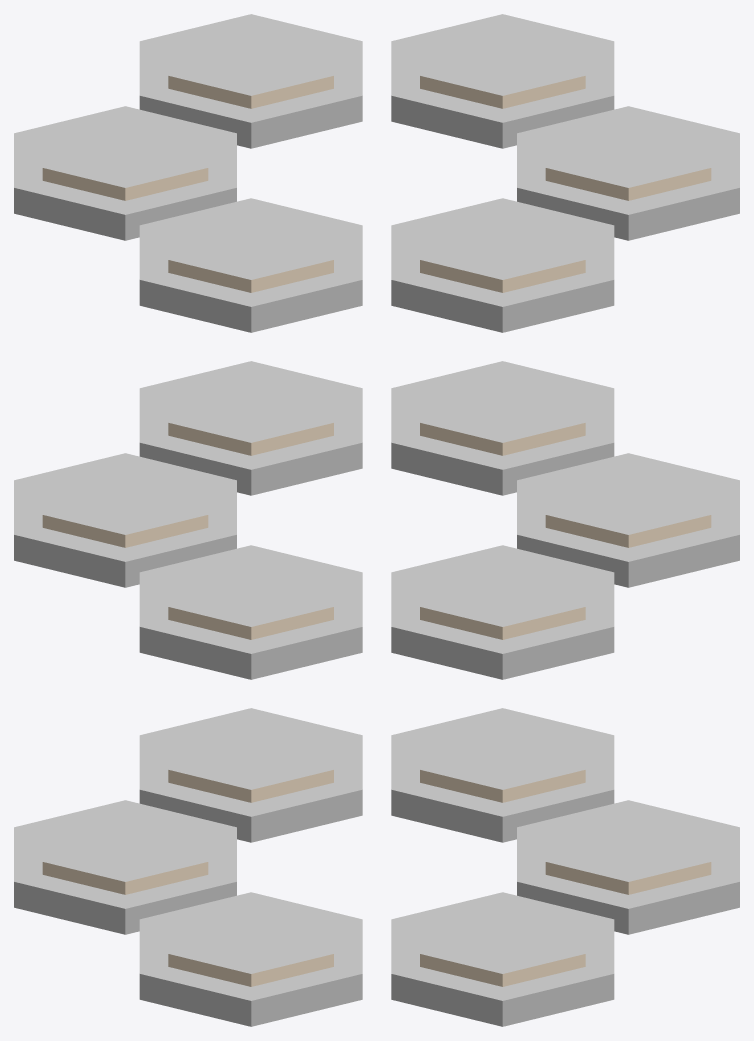
The model's file is hexon6.glb.
3 views of the same model, one above another, from view 1: azimuth 30°, elevation 25°; view 2: azimuth 150°, elevation 25°; view 3: azimuth 270°, elevation 25° (orthographic).
Parts seen in each view (by area): view 1: back lit hexon 18" (×6); view 2: back lit hexon 18" (×6); view 3: back lit hexon 18" (×6).
Boxes of the visible parts, x1,y1,x2,y2 form: back lit hexon 18" (×6): (14,14,739,332); back lit hexon 18" (×6): (14,361,739,679); back lit hexon 18" (×6): (14,708,739,1026).
Bounding box in the file's own units: 1.23 × 0.1143 × 1.29.
